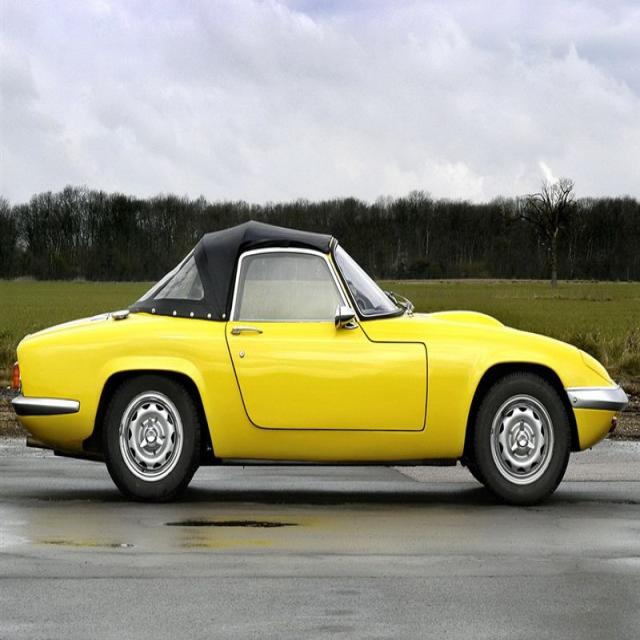back_right_side_light: (7, 352, 30, 393)
front_bumper: (563, 380, 629, 452)
front_glass: (334, 240, 400, 318)
front_right_side_door: (224, 242, 430, 436)
front_right_side_mirror: (332, 302, 354, 328)
rear_bumper: (9, 390, 84, 434)
wheel: (474, 370, 568, 501), (104, 373, 198, 501)
